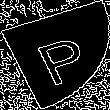P_N: (21, 25, 89, 85)
